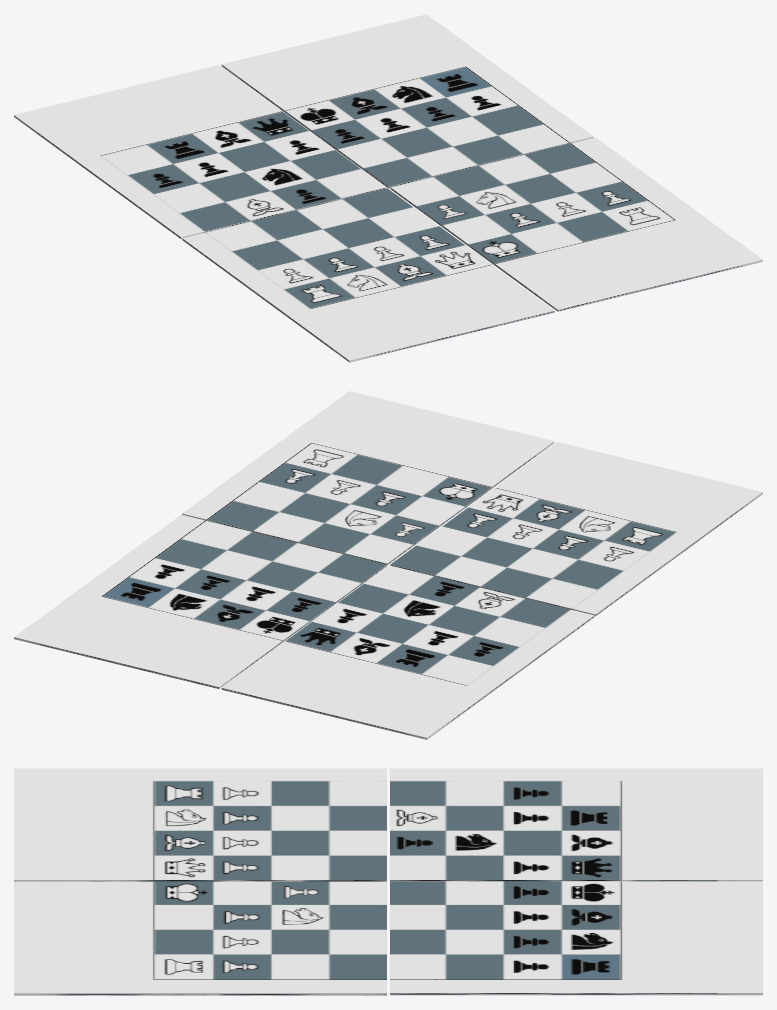
The model's file is paper_puzzle.fbx.
The picture shows the model from 3 angles, top to bottom: view 1: azimuth 30°, elevation 25°; view 2: azimuth 150°, elevation 25°; view 3: azimuth 270°, elevation 25°; orthographic projection. The views are drawn at different scales.
Visible parts, largest first — view 1: Box004_3, Box004_2, Box004_1, Box004; view 2: Box004, Box004_1, Box004_3, Box004_2; view 3: Box004_2, Box004_1, Box004_3, Box004.
Boxes of the visible parts, x1,y1,x2,y2 form: Box004_3: (182, 188, 554, 362); Box004_2: (390, 137, 762, 311); Box004_1: (221, 14, 593, 188); Box004: (14, 65, 386, 239); Box004: (221, 565, 594, 739); Box004_1: (14, 514, 386, 688); Box004_3: (390, 442, 762, 616); Box004_2: (182, 391, 554, 565); Box004_2: (14, 881, 386, 995); Box004_1: (390, 881, 762, 995); Box004_3: (14, 768, 386, 881); Box004: (390, 768, 762, 881).
Bounding box in the file's own units: 21.19 × 0.1 × 29.8.
1 material, 1 textured.
